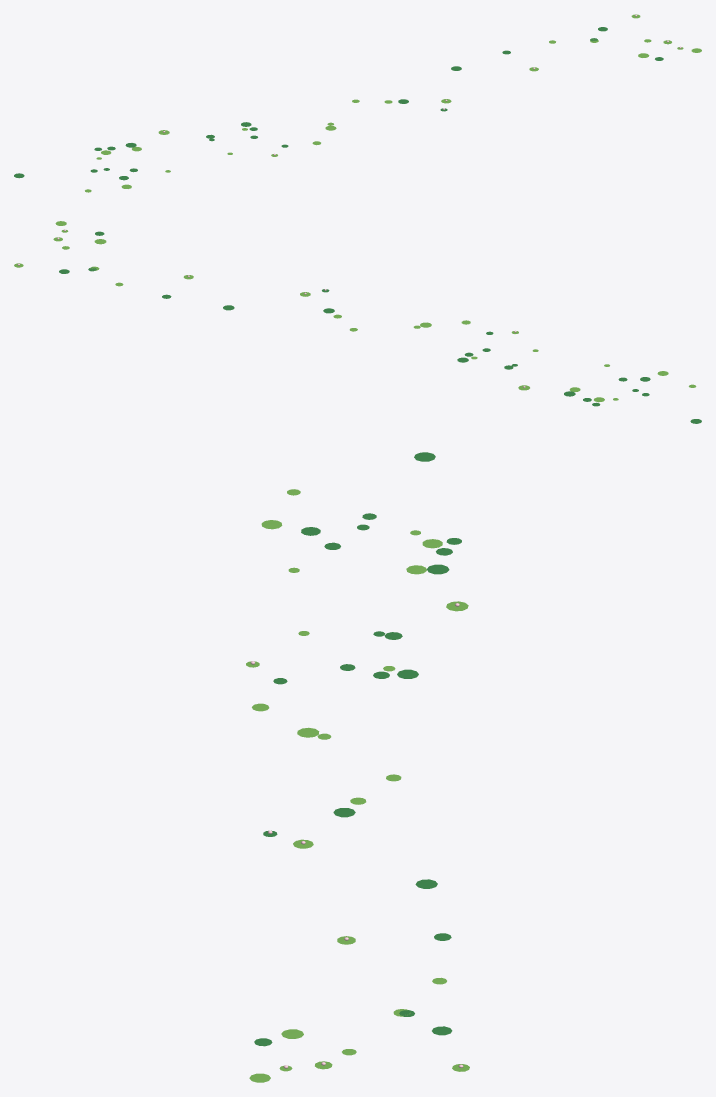
File: lily_pads.glb
The picture shows the model from 3 angles, top to bottom: view 1: azimuth 30°, elevation 25°; view 2: azimuth 150°, elevation 25°; view 3: azimuth 270°, elevation 25°; orthographic projection. The views are drawn at different scales.
Bounding box in the file's own units: 44.16 × 0.105 × 6.64.
